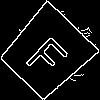F: (23, 27, 77, 81)
